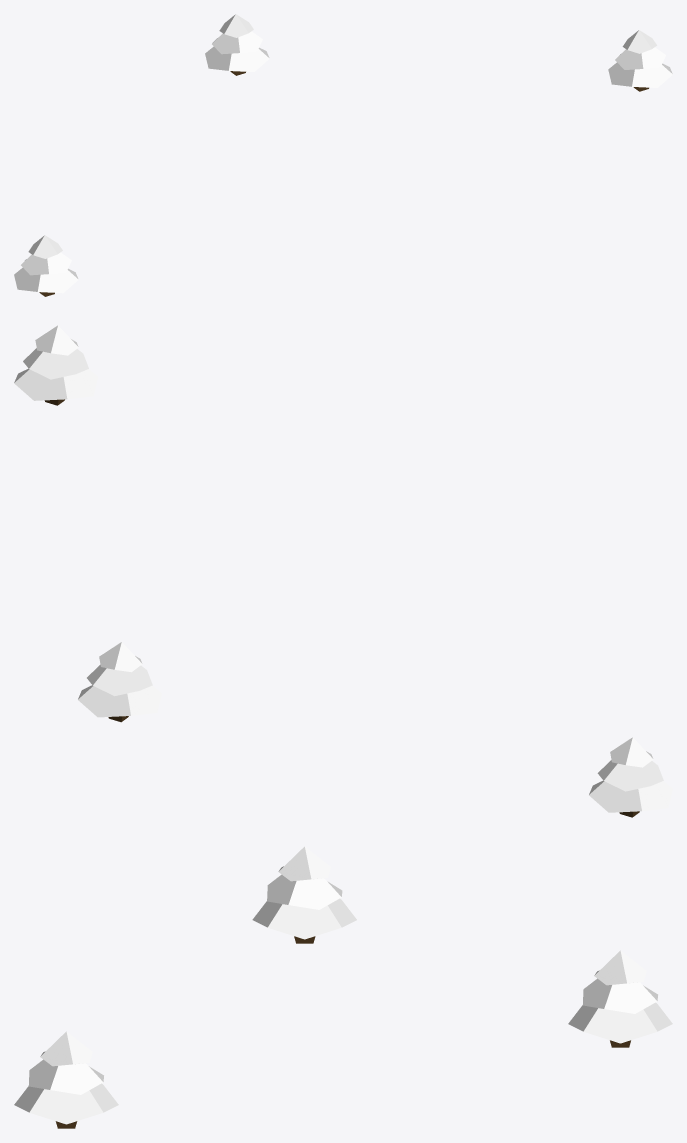
The model's file is trees.glb.
3 renders of one model, top to bottom at view 1: azimuth 30°, elevation 25°; view 2: azimuth 150°, elevation 25°; view 3: azimuth 270°, elevation 25°, orthographic. The views are drawn at different scales.
Parts seen in each view (by area): view 1: tree-green; view 2: tree-green; view 3: tree-green.
Boxes of the visible parts, x1,y1,x2,y2 form: tree-green: (14, 14, 672, 296); tree-green: (14, 325, 672, 817); tree-green: (14, 846, 672, 1128).
Bounding box in the file's own units: 4.8 × 1.54 × 3.04.
